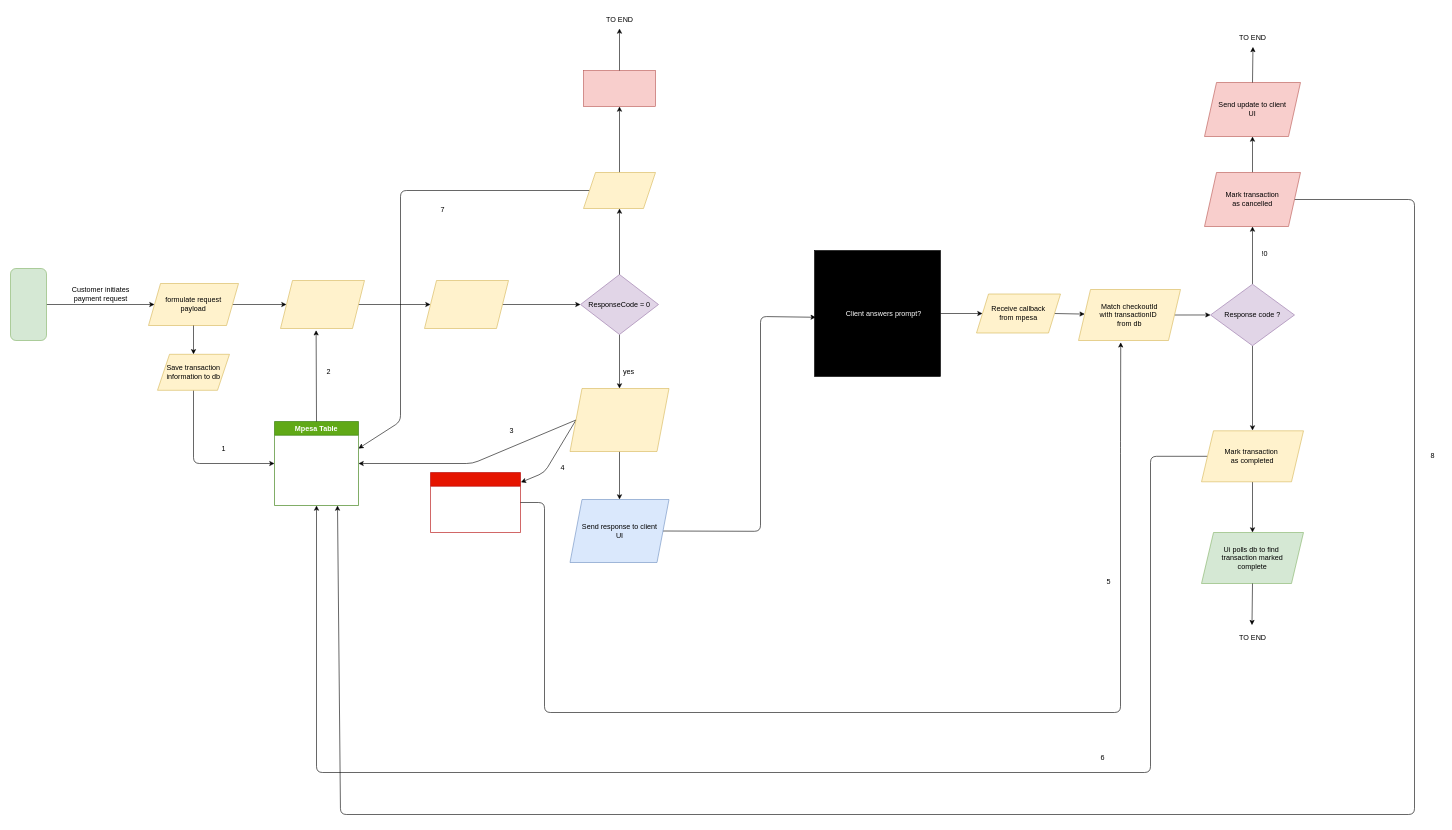
Some shapes in this 1452 by 830 pixel diagram are drawn without their labels. The shapes that lost their labels are listed below. From the top down, each one's box as (x1, y1, x2, y2) in pixels, then its label:
(583, 70, 656, 106): Inform user of transaction failure
(583, 172, 656, 208): Record failed status of transaction
(10, 268, 46, 340): START
(280, 280, 364, 328): Send request to Safaricom
(424, 280, 508, 328): Receive response
(569, 388, 669, 452): Record checkoutId to redis and main db
(430, 472, 520, 532): Redis
